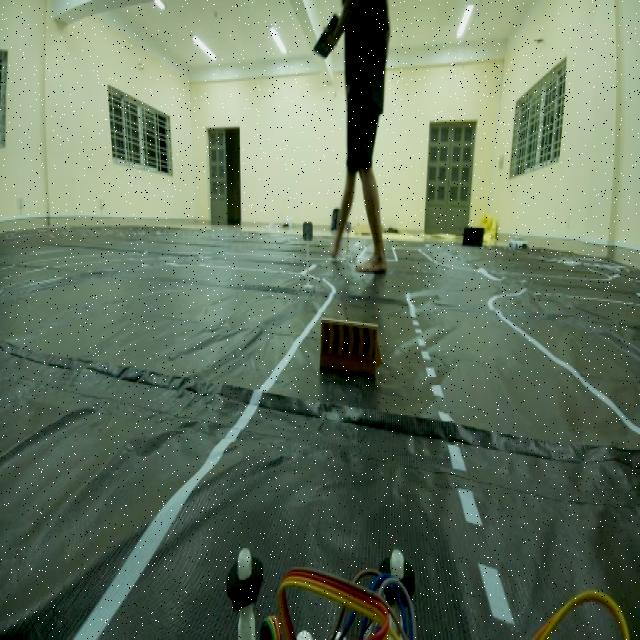roadblock: (312, 309, 382, 399)
